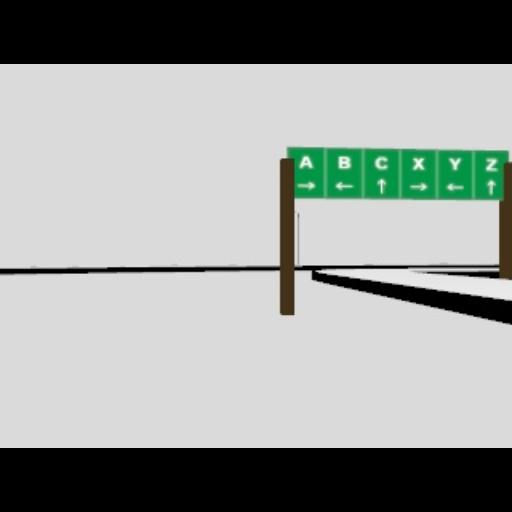A: (298, 154, 312, 168)
B: (338, 156, 350, 168)
C: (373, 155, 389, 169)
Left: (332, 181, 354, 191), (444, 182, 464, 190)
Right: (408, 182, 428, 190), (296, 181, 316, 189)
Straight: (376, 178, 386, 194), (486, 179, 496, 195)
X: (412, 156, 424, 170)
Y: (448, 156, 460, 170)
Z: (484, 156, 498, 170)
